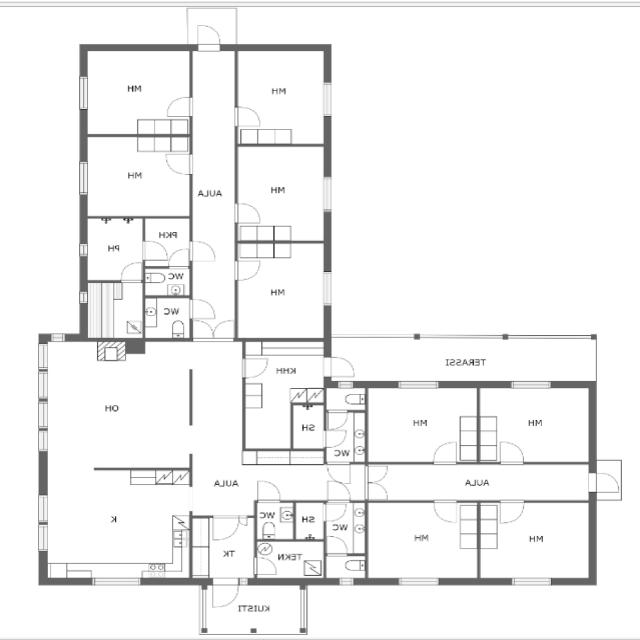door: (142, 218, 192, 266), (323, 502, 367, 553), (253, 547, 300, 578), (191, 22, 227, 54), (208, 579, 242, 611), (586, 469, 624, 496), (495, 498, 528, 528), (321, 355, 359, 381), (494, 438, 528, 467), (208, 514, 240, 544), (428, 438, 462, 466), (231, 102, 265, 130), (161, 150, 196, 177), (161, 93, 197, 119), (231, 199, 265, 226), (364, 466, 390, 500), (431, 498, 462, 526), (231, 257, 264, 283), (198, 317, 237, 339), (253, 478, 283, 504), (238, 356, 270, 380), (188, 239, 218, 264), (187, 297, 218, 321), (138, 239, 169, 263), (325, 479, 352, 504), (190, 318, 219, 340), (325, 460, 351, 484), (251, 556, 280, 576), (321, 428, 348, 449), (324, 409, 349, 431), (166, 246, 191, 268), (325, 534, 349, 556), (120, 260, 144, 282), (322, 502, 347, 523), (237, 514, 249, 527)
window: (33, 341, 51, 461), (33, 494, 51, 555), (505, 573, 557, 590), (502, 376, 557, 392), (85, 575, 147, 589), (73, 72, 92, 114), (318, 78, 336, 121), (318, 173, 336, 215), (73, 157, 91, 199), (390, 377, 444, 391), (390, 575, 443, 588), (319, 267, 335, 309), (76, 240, 90, 260), (75, 288, 89, 308), (47, 332, 69, 344), (335, 576, 357, 588)
zone: (41, 344, 192, 470), (40, 467, 192, 582), (476, 499, 591, 581), (234, 48, 328, 148), (83, 48, 191, 135), (81, 134, 192, 218), (476, 383, 591, 464), (234, 146, 329, 244), (240, 342, 324, 452), (366, 500, 479, 580), (234, 242, 328, 338), (367, 384, 478, 463), (191, 516, 255, 585), (82, 215, 145, 283), (83, 282, 142, 339), (253, 540, 324, 579), (323, 500, 365, 555), (144, 218, 192, 266), (144, 295, 192, 340), (254, 501, 294, 539), (291, 404, 324, 450), (142, 266, 192, 295), (323, 384, 368, 414), (293, 501, 326, 541), (322, 408, 353, 430)
